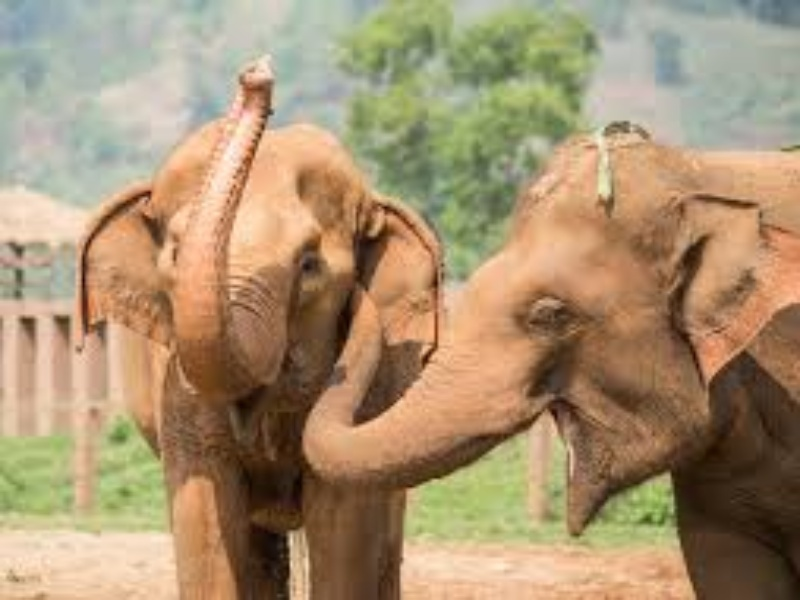elephant: (47, 31, 476, 597)
